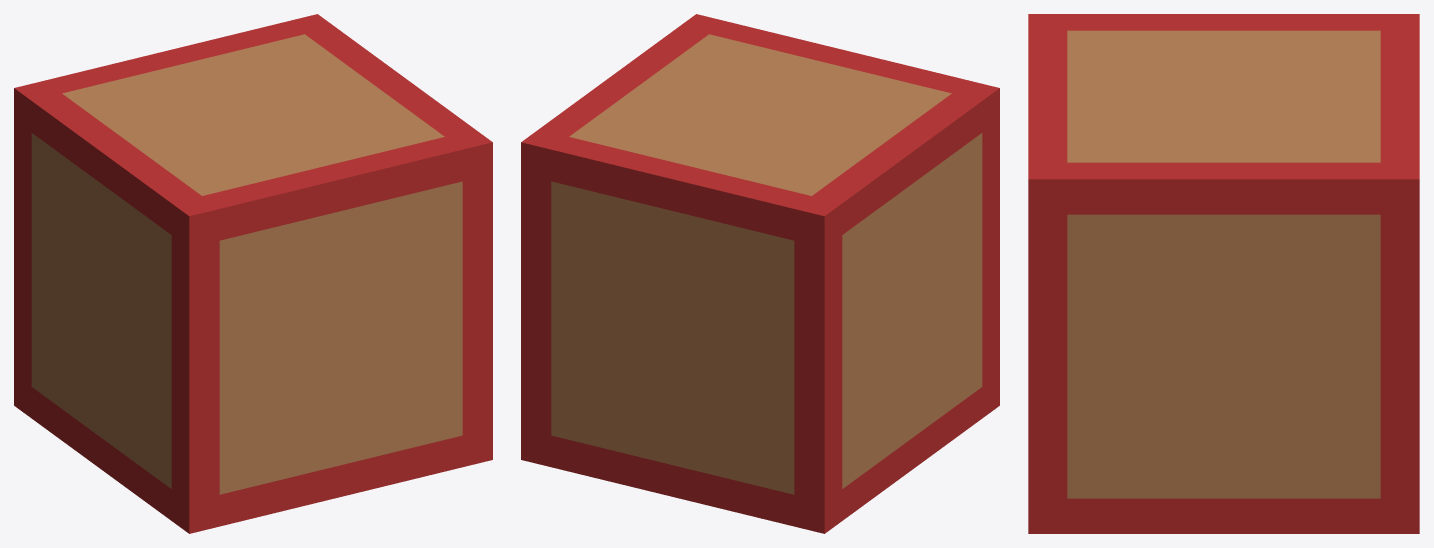
Rendered from hako_a 1.FBX.
3 renders of one model, left to right at view 1: azimuth 30°, elevation 25°; view 2: azimuth 150°, elevation 25°; view 3: azimuth 270°, elevation 25°, orthographic. The views are drawn at different scales.
Parts seen in each view (by area): view 1: Box001; view 2: Box001; view 3: Box001.
Boxes of the visible parts, x1,y1,x2,y2 form: Box001: [14, 14, 492, 533]; Box001: [521, 14, 999, 533]; Box001: [1028, 14, 1419, 533].
Bounding box in the file's own units: 394 × 394 × 394.
